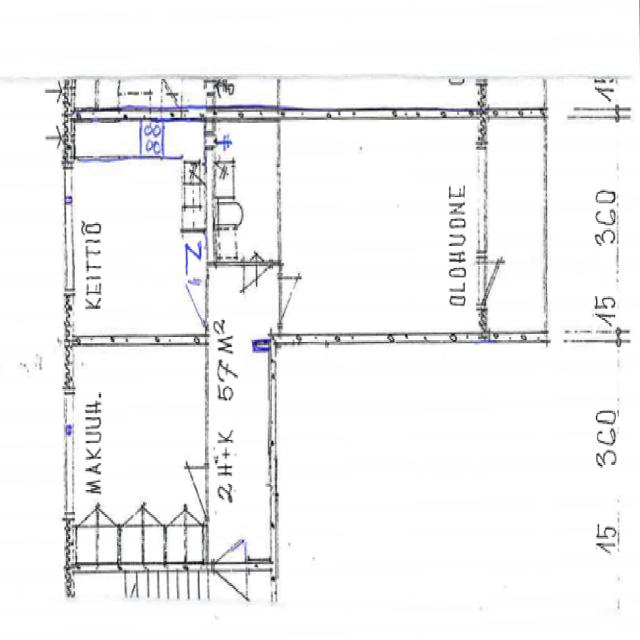door: (174, 468, 212, 518), (214, 512, 245, 572), (214, 560, 245, 620), (277, 276, 310, 321), (478, 263, 512, 304), (179, 281, 211, 324), (243, 260, 269, 309)
